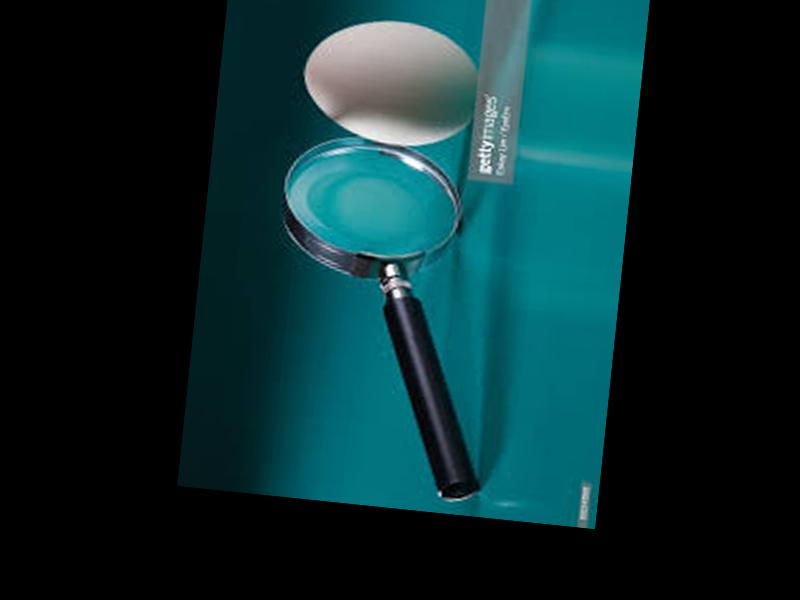Eggs: (296, 11, 485, 153)
